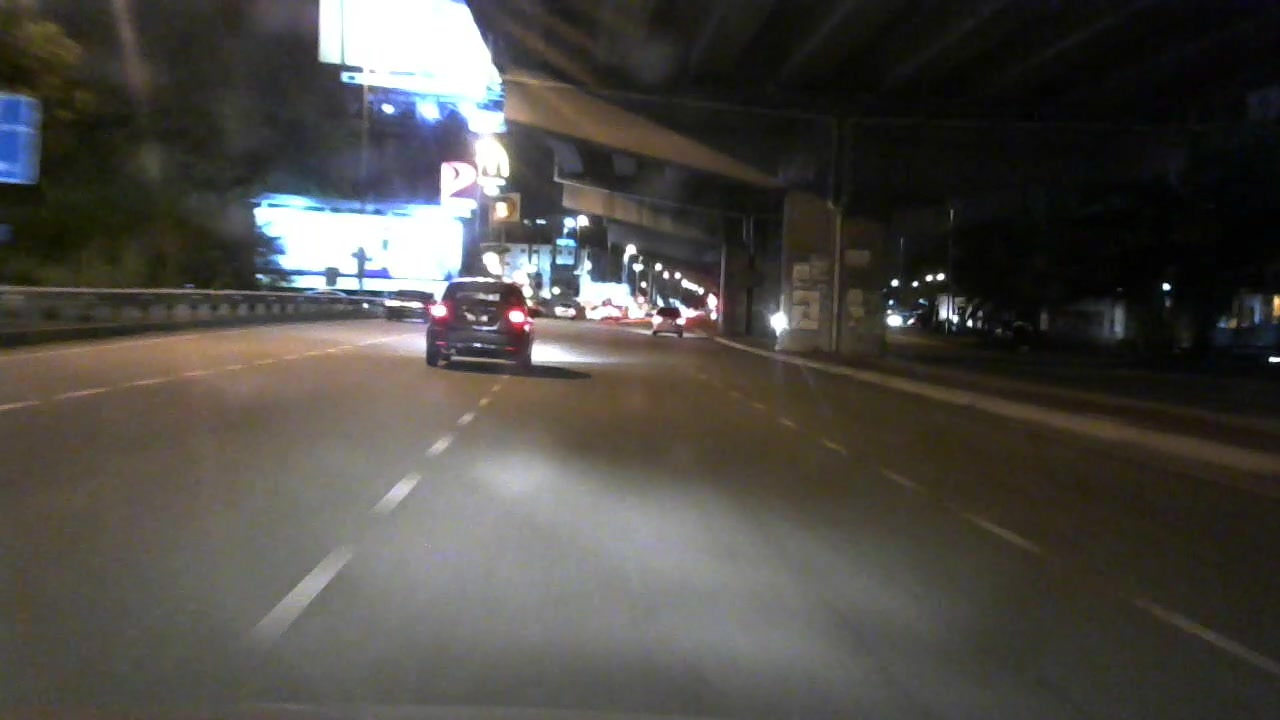Car: (418, 273, 543, 377), (378, 284, 431, 322), (650, 303, 687, 339), (548, 297, 575, 321)
